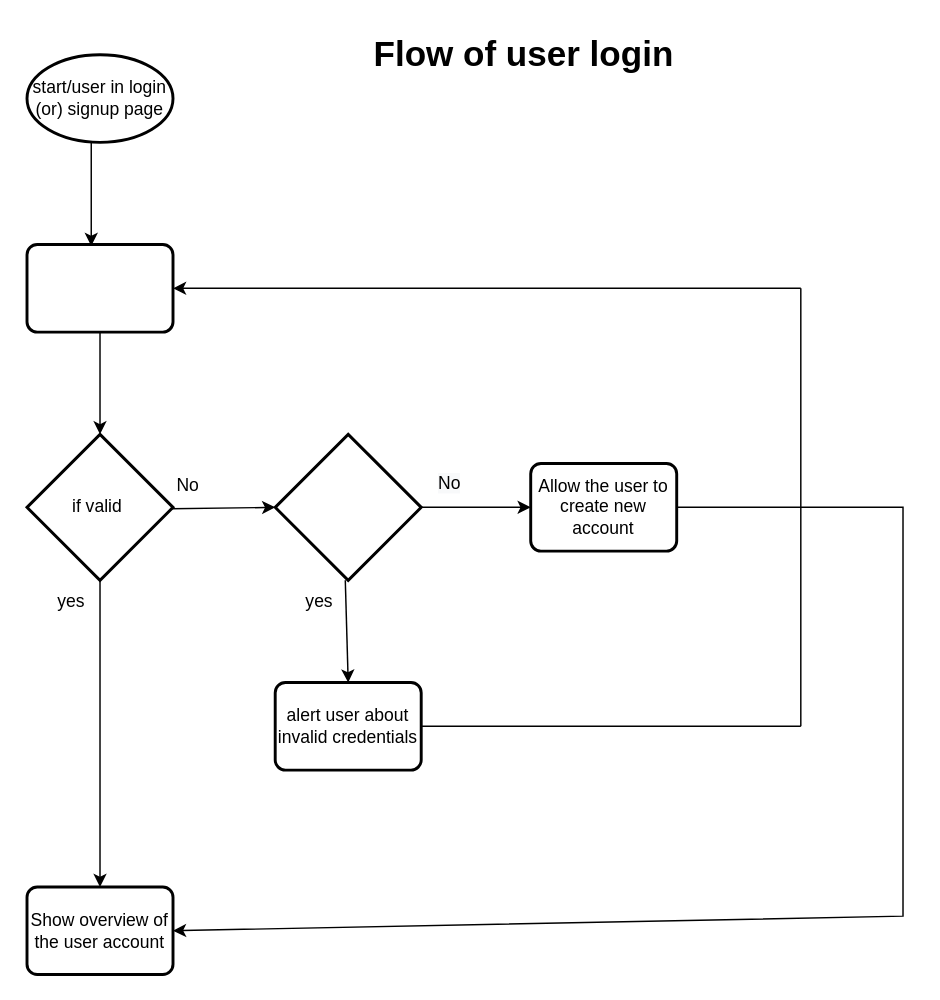
Some shapes in this 940 by 1000 pixel diagram are drawn without their labels. Each missing label, with the centre of its shape:
Check if the user has registered: point (347, 506)
Enter user credentials: point (99, 287)
